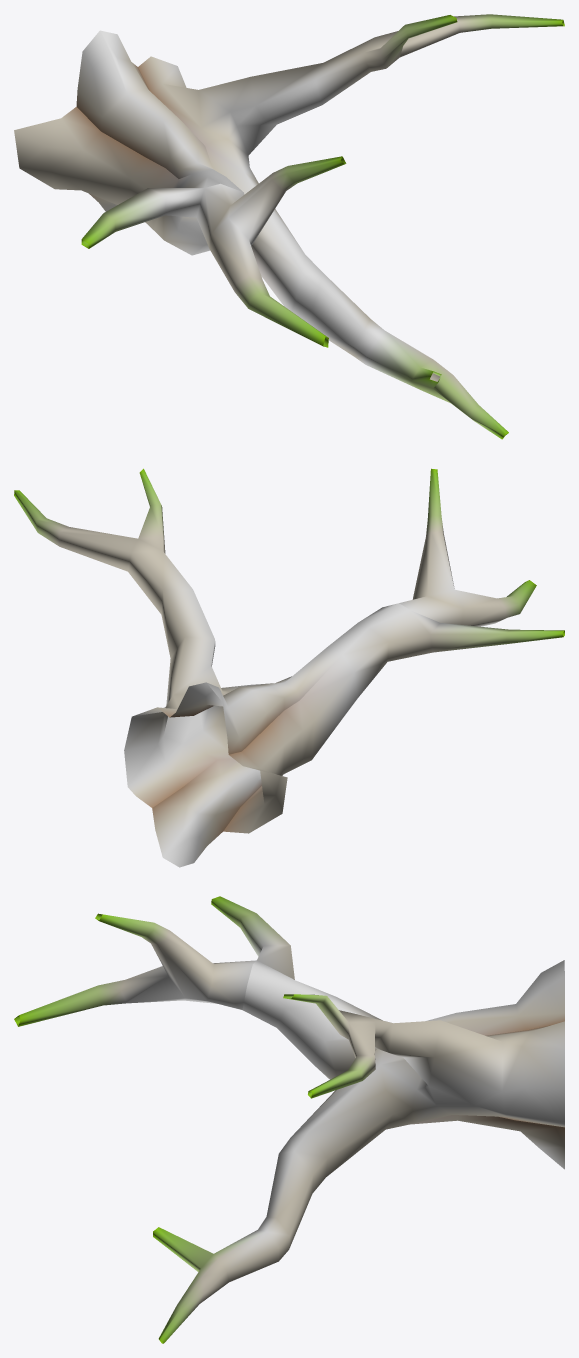
File: Tropical_A.glb
3 views of the same model, one above another, from view 1: azimuth 30°, elevation 25°; view 2: azimuth 150°, elevation 25°; view 3: azimuth 270°, elevation 25° (orthographic). The views are drawn at different scales.
Parts seen in each view (by area): view 1: MeshNode_0; view 2: MeshNode_0; view 3: MeshNode_0.
Part boxes in pixels (<box>): MeshNode_0: <box>14,14,564,439</box>; MeshNode_0: <box>14,468,564,867</box>; MeshNode_0: <box>14,896,564,1343</box>.
Size of the model in its own units: 52.78 by 35.25 by 49.23.
